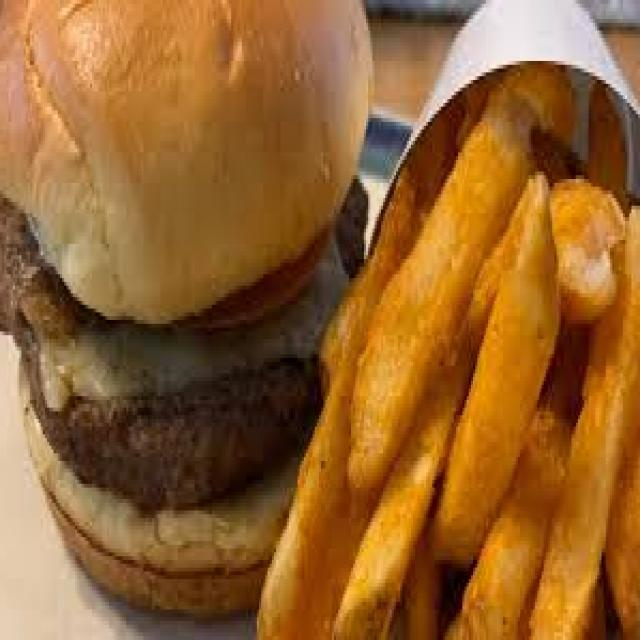Burger: (2, 4, 381, 613)
French Fries: (336, 7, 640, 640)
